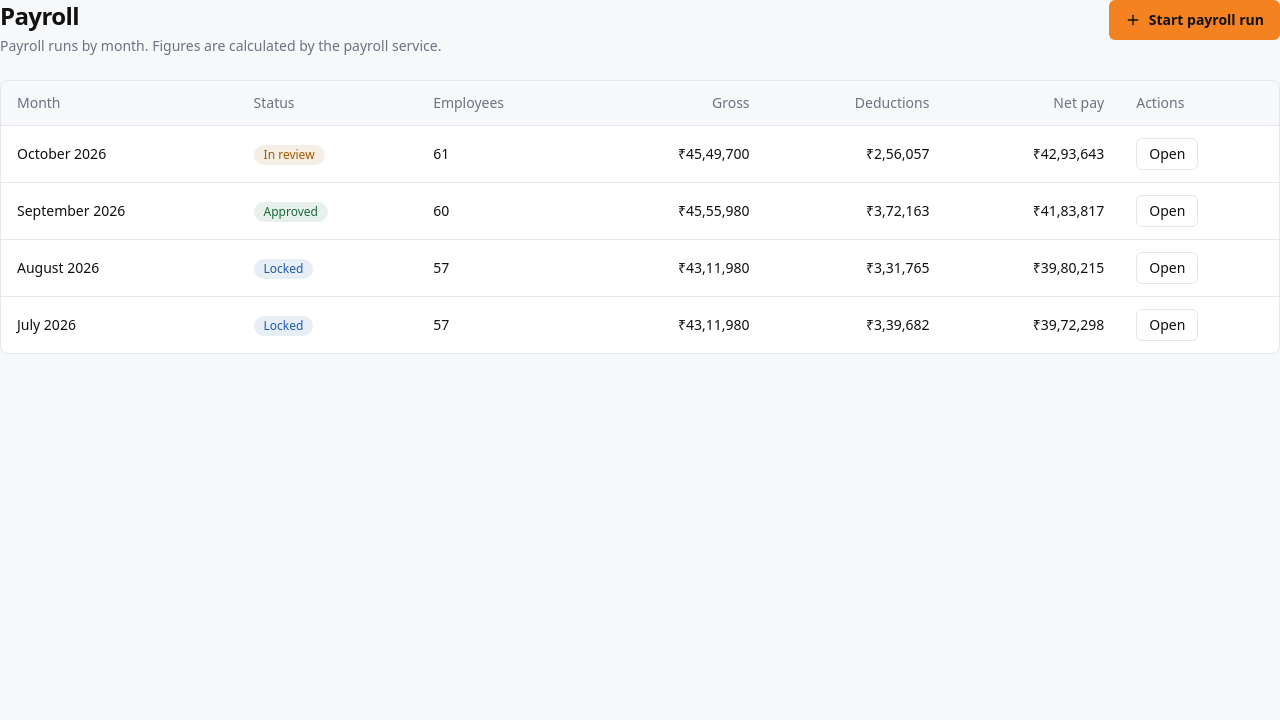
Payroll (HR) › shows the server’s message when a run already exists
Click the button "Start payroll run" at {"x": 1194, "y": 20}, box top-left (1109, 0), bottom-right (1279, 40)
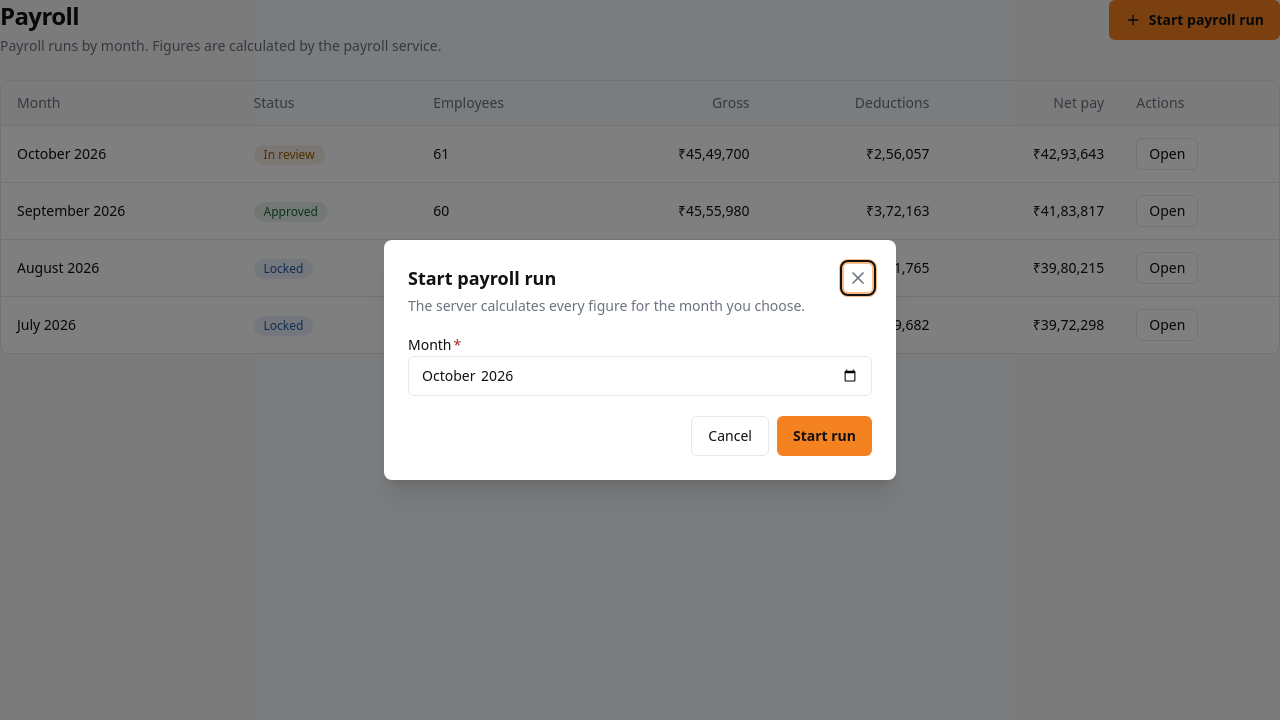
Click the button "Start run" at {"x": 824, "y": 436}, box top-left (777, 416), bottom-right (872, 456)
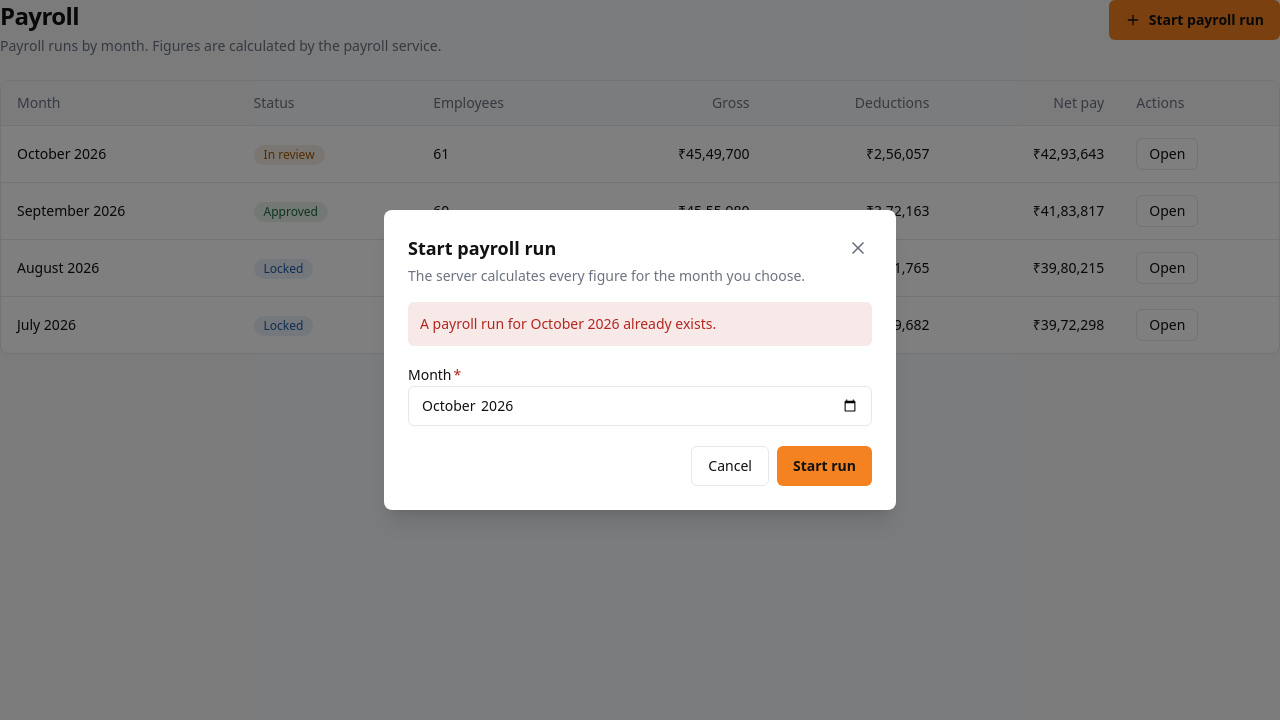
Check: the message shows "already exists", box top-left (420, 314), bottom-right (716, 333)
